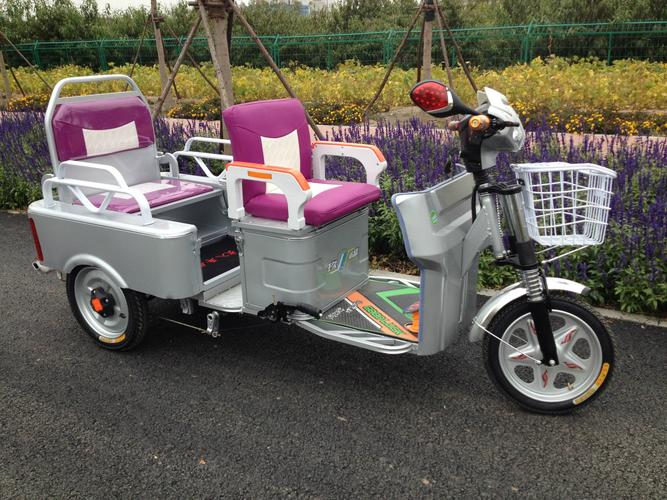empty: (87, 118, 545, 500)
